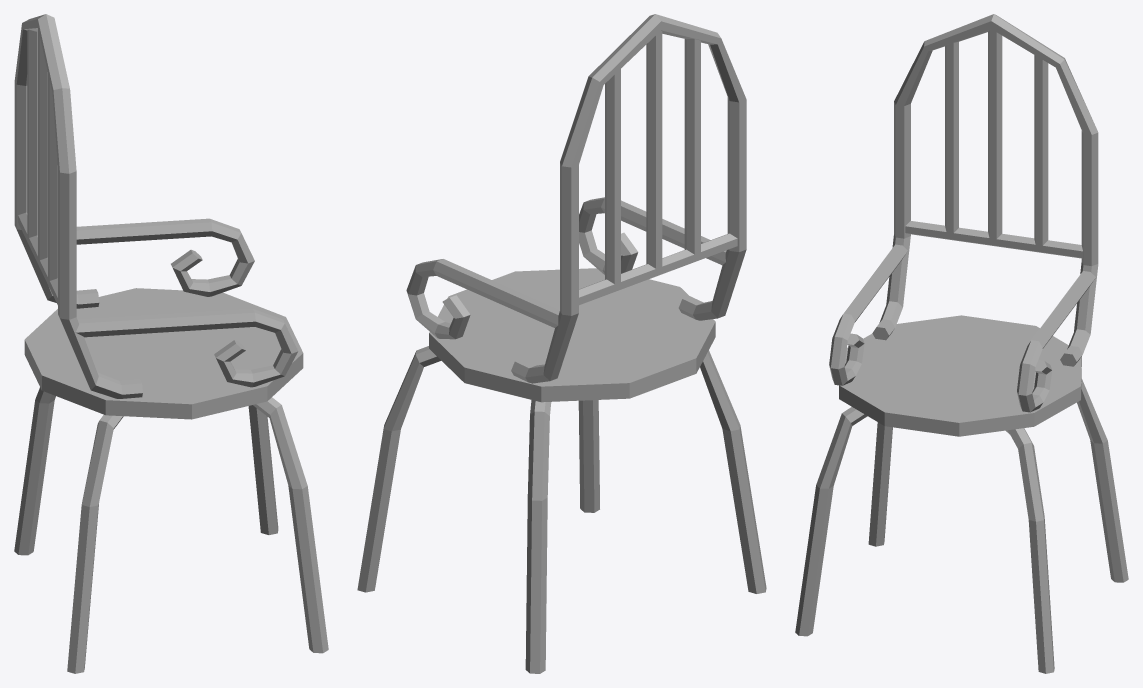
File: Chair 1.fbx
3 views of the same model, side by side, from view 1: azimuth 30°, elevation 25°; view 2: azimuth 150°, elevation 25°; view 3: azimuth 270°, elevation 25° (orthographic). The views are drawn at different scales.
Visible parts, largest first — view 1: Chair 1; view 2: Chair 1; view 3: Chair 1.
Part boxes in pixels (left/top/right/bottom): Chair 1: left=14, top=14, right=328, bottom=673; Chair 1: left=357, top=14, right=766, bottom=673; Chair 1: left=795, top=14, right=1128, bottom=673.
Size of the model in its own units: 88.49 by 92.6 by 167.
